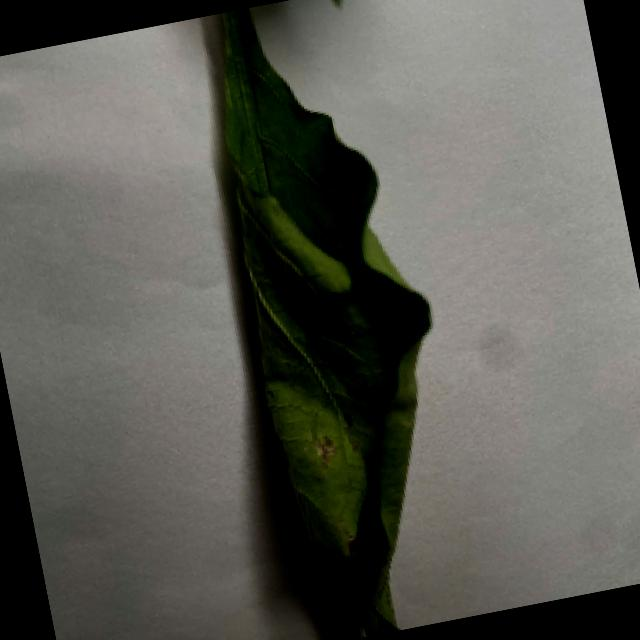Leaf: (223, 9, 429, 635)
